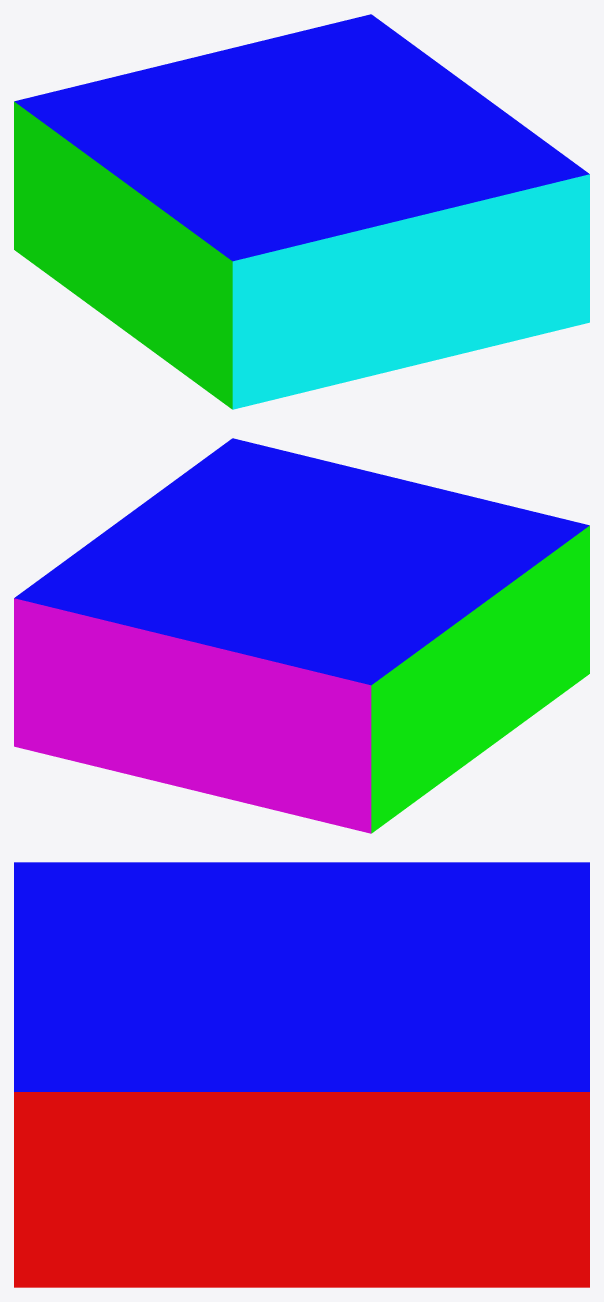
The picture shows the model from 3 angles, top to bottom: view 1: azimuth 30°, elevation 25°; view 2: azimuth 150°, elevation 25°; view 3: azimuth 270°, elevation 25°; orthographic projection. The views are drawn at different scales.
Size of the model in its own units: 2.52 by 1 by 2.67.
